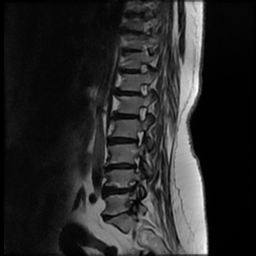RFS0: (130, 124, 147, 151), (132, 101, 149, 125), (129, 151, 144, 176)
